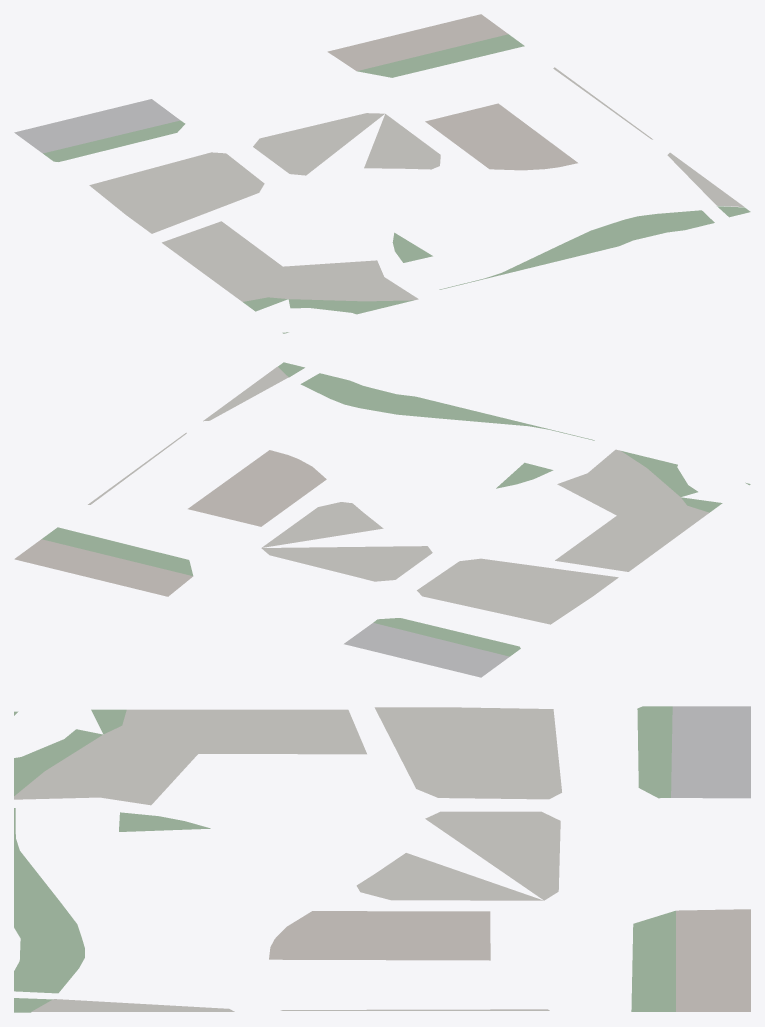
The model's file is 126_71_mid.glb.
The picture shows the model from 3 angles, top to bottom: view 1: azimuth 30°, elevation 25°; view 2: azimuth 150°, elevation 25°; view 3: azimuth 270°, elevation 25°; orthographic projection. The views are drawn at different scales.
Bounding box in the file's own units: 500 × 9.14 × 500.
